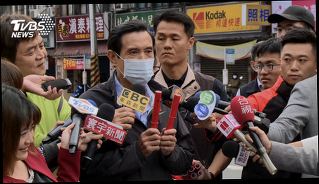with_mask: (121, 44, 156, 88)
without_mask: (155, 30, 190, 67), (280, 52, 317, 86), (21, 38, 49, 76), (15, 121, 36, 163), (256, 58, 280, 90)
